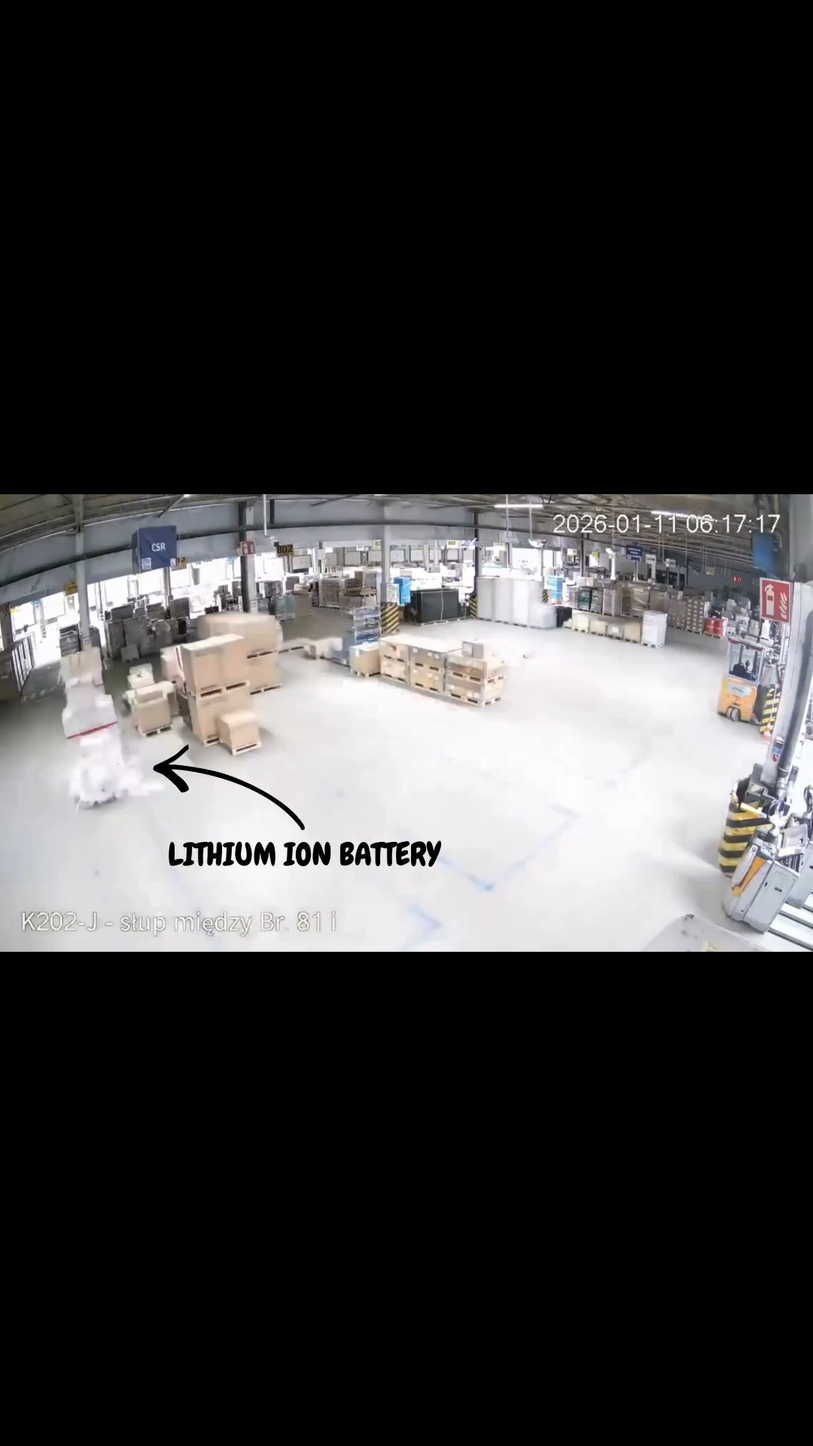smoke: (115, 734, 169, 801)
